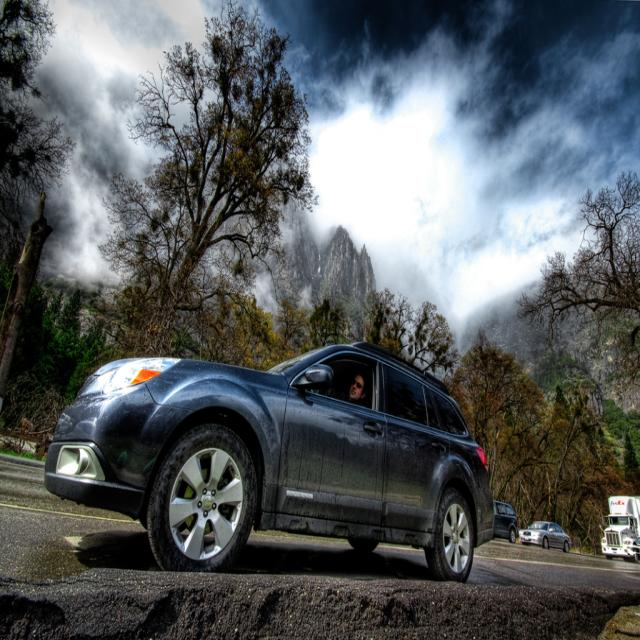car: (44, 333, 493, 572), (516, 516, 568, 547)
